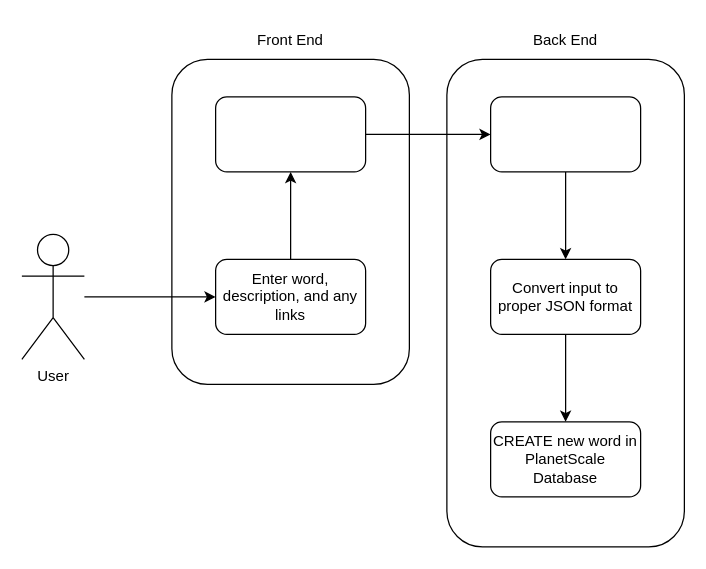
The diagram is 706 pixels wide and 569 high, and some of its shapes have lost their labels. The centre of each missing label's shape, as x and y in pixels:
Click "Add Word" Button: (290,134)
READ user input: (565,134)
